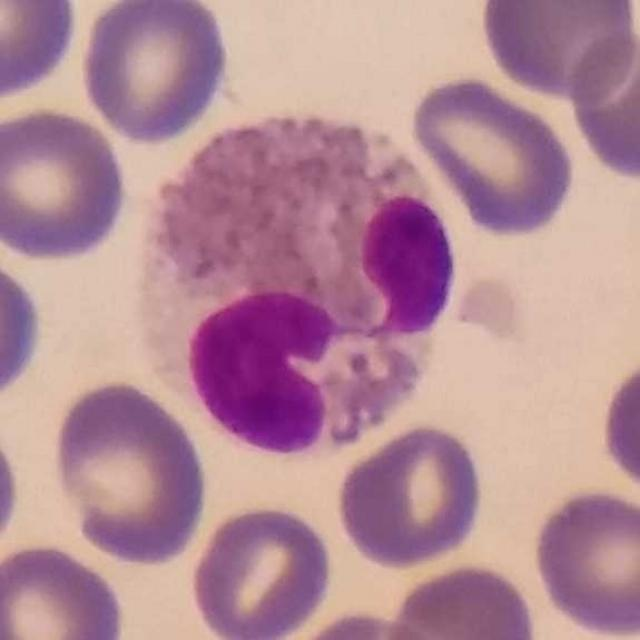eosino: (126, 107, 460, 451)
